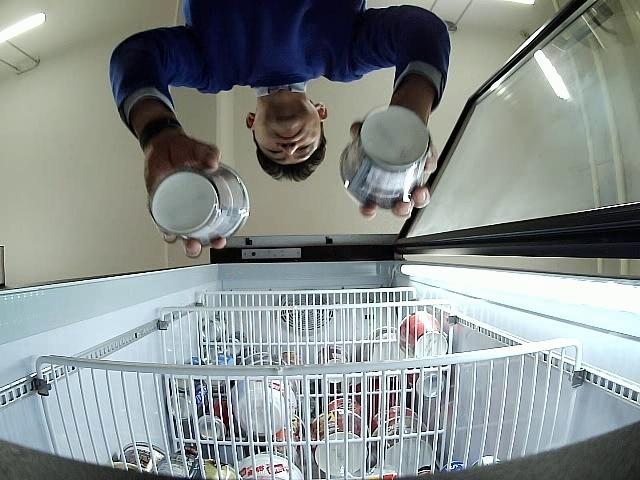00_hand: (144, 132, 227, 259), (350, 102, 436, 219)
08_buldak_S: (340, 105, 431, 209), (150, 161, 249, 247)
